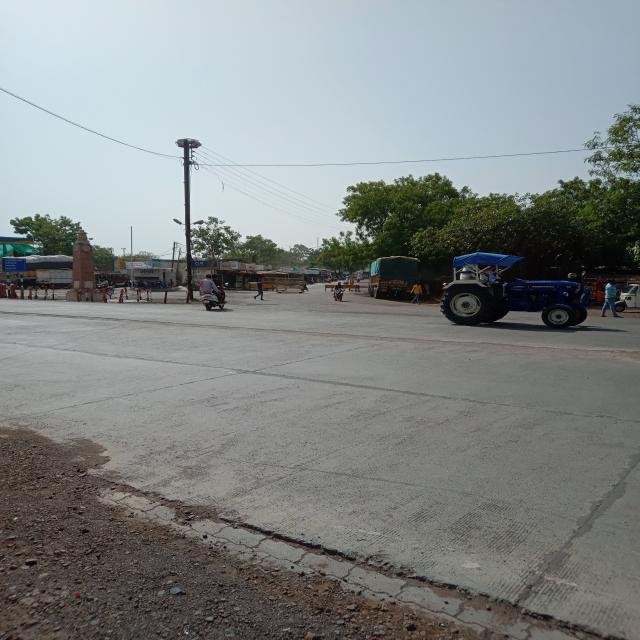Tractor: (442, 250, 585, 340)
